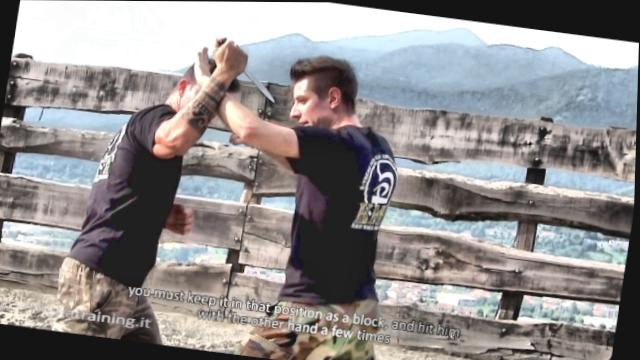knife: (203, 31, 288, 107)
